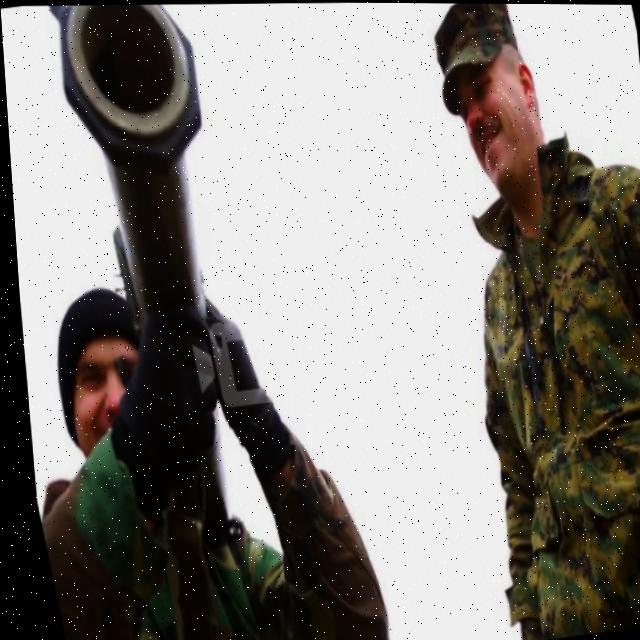rocket: (44, 2, 243, 327)
